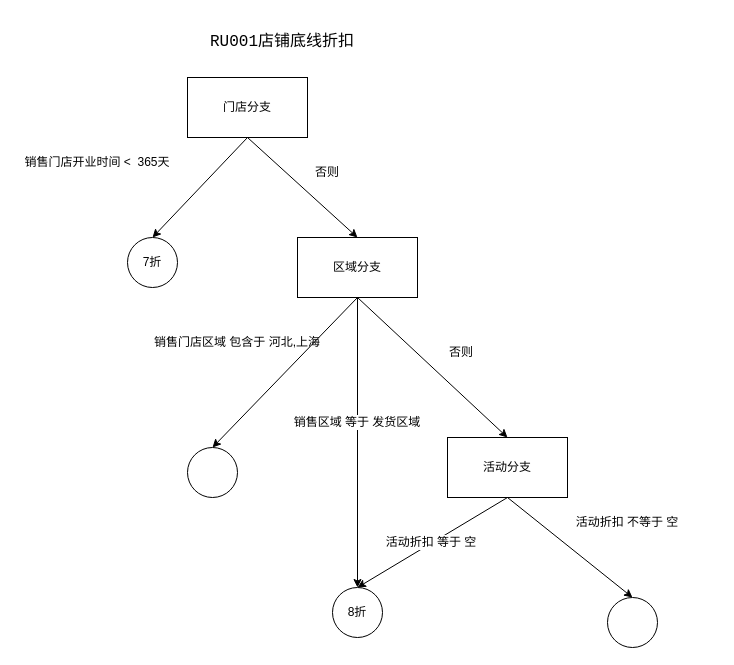
The diagram is 734 pixels wide and 665 high, and some of its shapes have lost their labels. The shapes that lost their labels are listed below. From the top down, each one's centre as x and y in pixels, then its label:
At (212,472): "9折".
At (632,622): "活动折扣".
